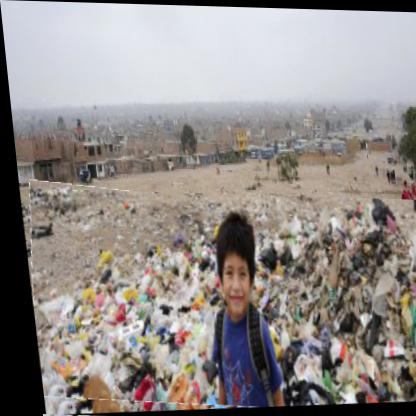Garbage: (16, 189, 416, 416)
